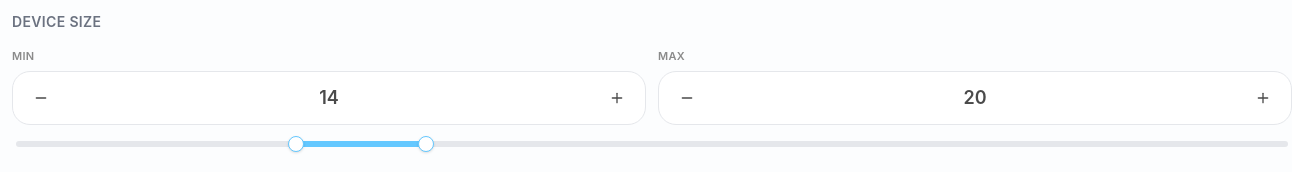
Test: Size range steppers › regression: typing a below-min prefix in Max isn't clamped mid-edit
Replace the text in the number field named "Max size" with "3": point(975, 98) [713,84,1237,112]
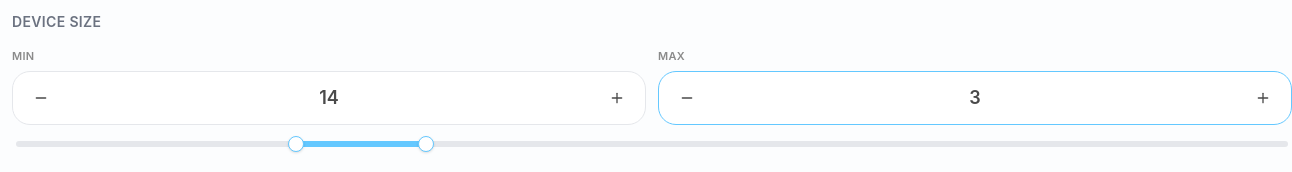
Finishing "30" commits the now in-range value.
In the number field named "Max size": point(975, 98) [713,84,1237,112], type "0"
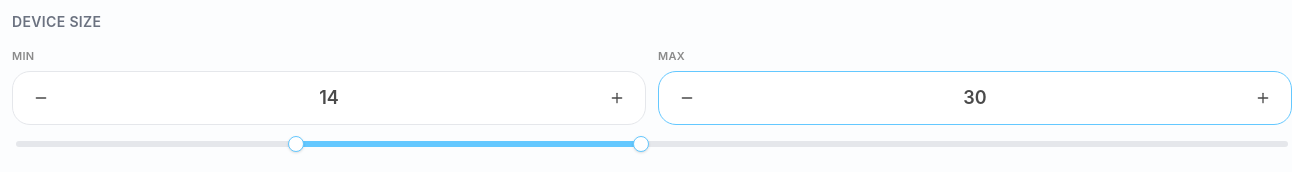
Expected: the number field named "Max size" holds "30", [713,84,1237,112]
